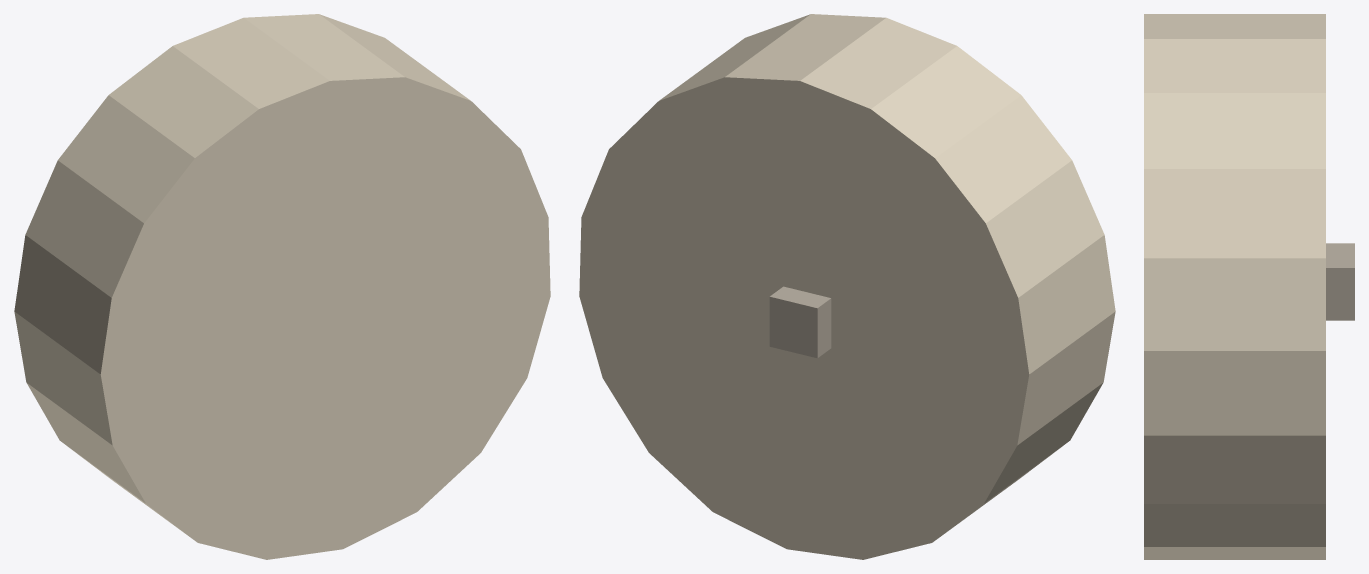
File: historic-palestine-10_22_3518_3160.glb
3 renders of one model, left to right at view 1: azimuth 30°, elevation 25°; view 2: azimuth 150°, elevation 25°; view 3: azimuth 270°, elevation 25°, orthographic. The views are drawn at different scales.
Visible parts, largest first — view 1: Building_; view 2: Building_, Roof access hut; view 3: Building_, Roof access hut.
Boxes of the visible parts, x1,y1,x2,y2 form: Building_: [14, 14, 550, 559]; Building_: [579, 14, 1115, 559]; Roof access hut: [769, 286, 831, 358]; Building_: [1144, 14, 1325, 559]; Roof access hut: [1326, 243, 1354, 320].
Size of the model in its own units: 22.55 by 22.59 by 8.7.
